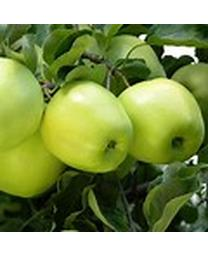apple: (40, 80, 133, 173), (118, 78, 204, 165), (0, 102, 64, 196), (0, 58, 44, 150), (172, 63, 207, 129)
